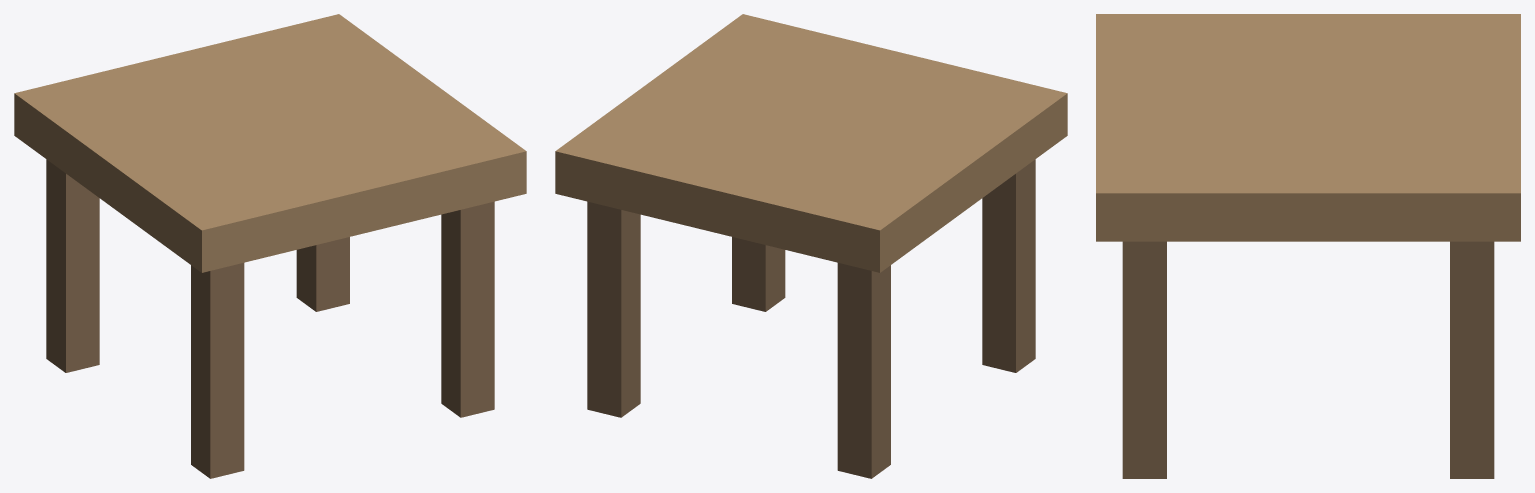
File: wood_table.gltf
3 views of the same model, side by side, from view 1: azimuth 30°, elevation 25°; view 2: azimuth 150°, elevation 25°; view 3: azimuth 270°, elevation 25° (orthographic). The views are drawn at different scales.
Visible parts, largest first — view 1: wood_table; view 2: wood_table; view 3: wood_table.
Boxes of the visible parts, <box> form: wood_table: <box>14,14,526,478</box>; wood_table: <box>555,14,1067,478</box>; wood_table: <box>1096,14,1520,478</box>.
Size of the model in its own units: 0.96 by 0.74 by 0.96.
